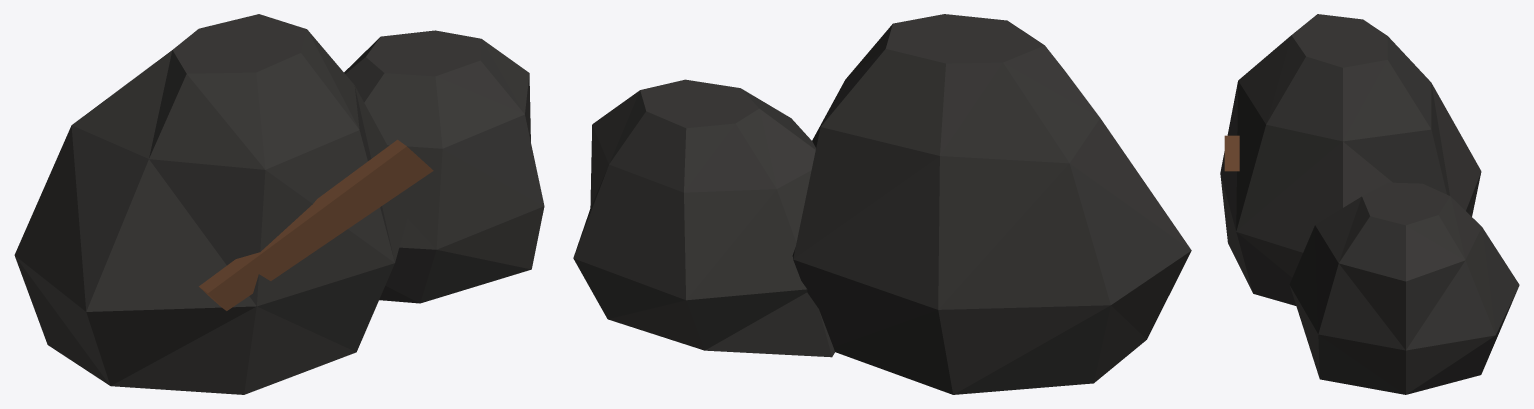
File: ore_outcrop.glb
The picture shows the model from 3 angles, left to right: view 1: azimuth 30°, elevation 25°; view 2: azimuth 150°, elevation 25°; view 3: azimuth 270°, elevation 25°; orthographic projection. The views are drawn at different scales.
Visible parts, largest first — view 1: ore_outcrop; view 2: ore_outcrop; view 3: ore_outcrop.
Part boxes in pixels (x1,y1,x2,y2): ore_outcrop: [14, 14, 544, 394]; ore_outcrop: [573, 14, 1191, 394]; ore_outcrop: [1220, 14, 1519, 394].
Bounding box in the file's own units: 1.94 × 1 × 1.19.
